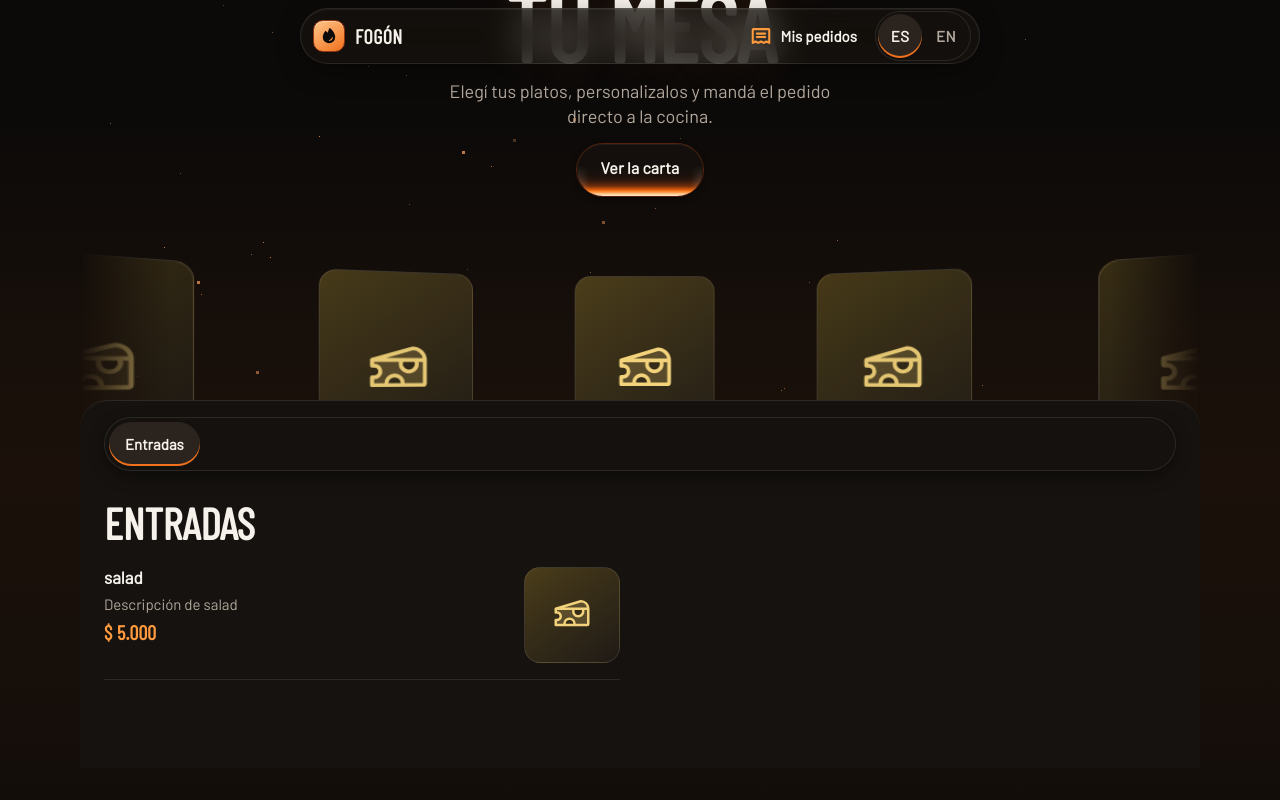
Test: CustomerApp: esqueleto de la app (RF1, RF2, RF3, RF4, RF32, RF41, RF42) › pedido en curso y envío (T8: RF21, RF23, RF25, RF26) › el registro del dispositivo recuerda el pedido enviado (es lo que sigue "Mis pedidos")
The width and height of the screenshot is (1280, 800).
Click the button "salad Descripción de salad $ 5.000": (123, 577) [104, 551, 620, 679]
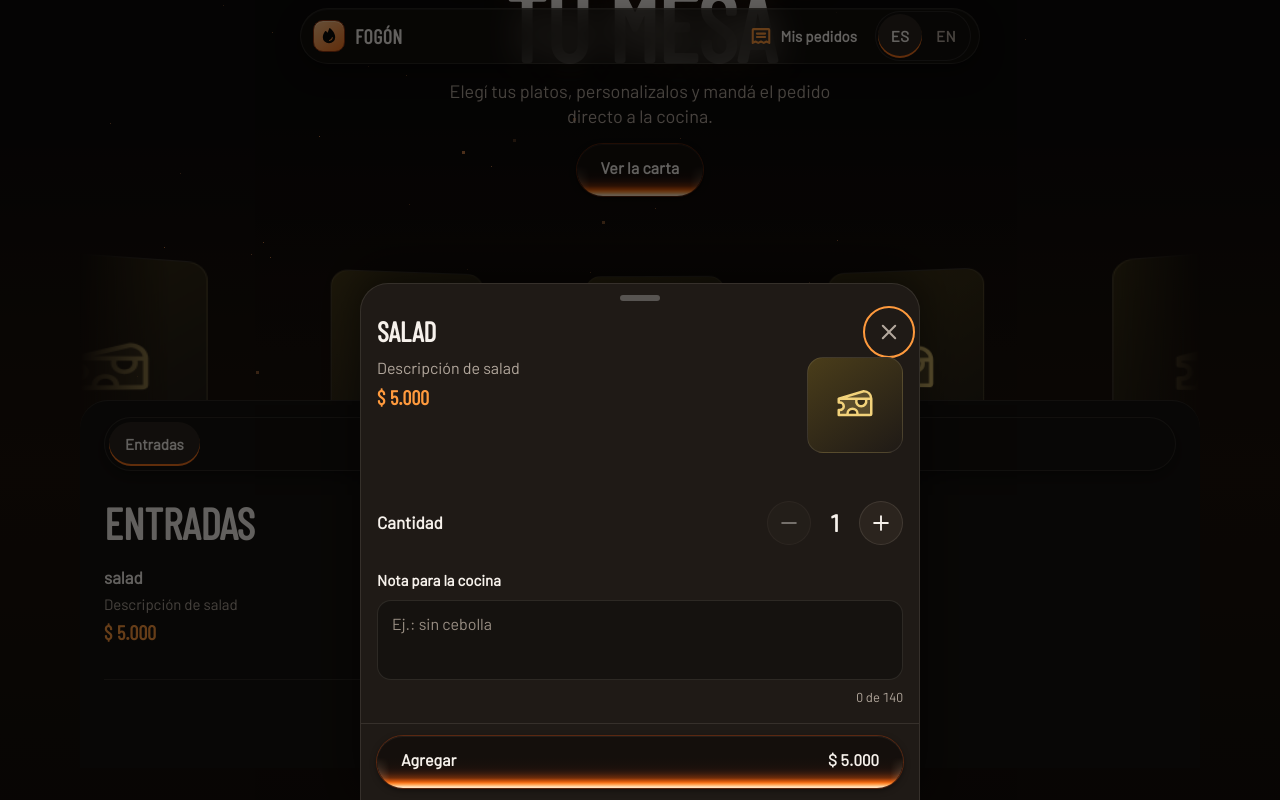
Click the button "Agregar $ 5.000": (429, 760) [377, 736, 903, 788]
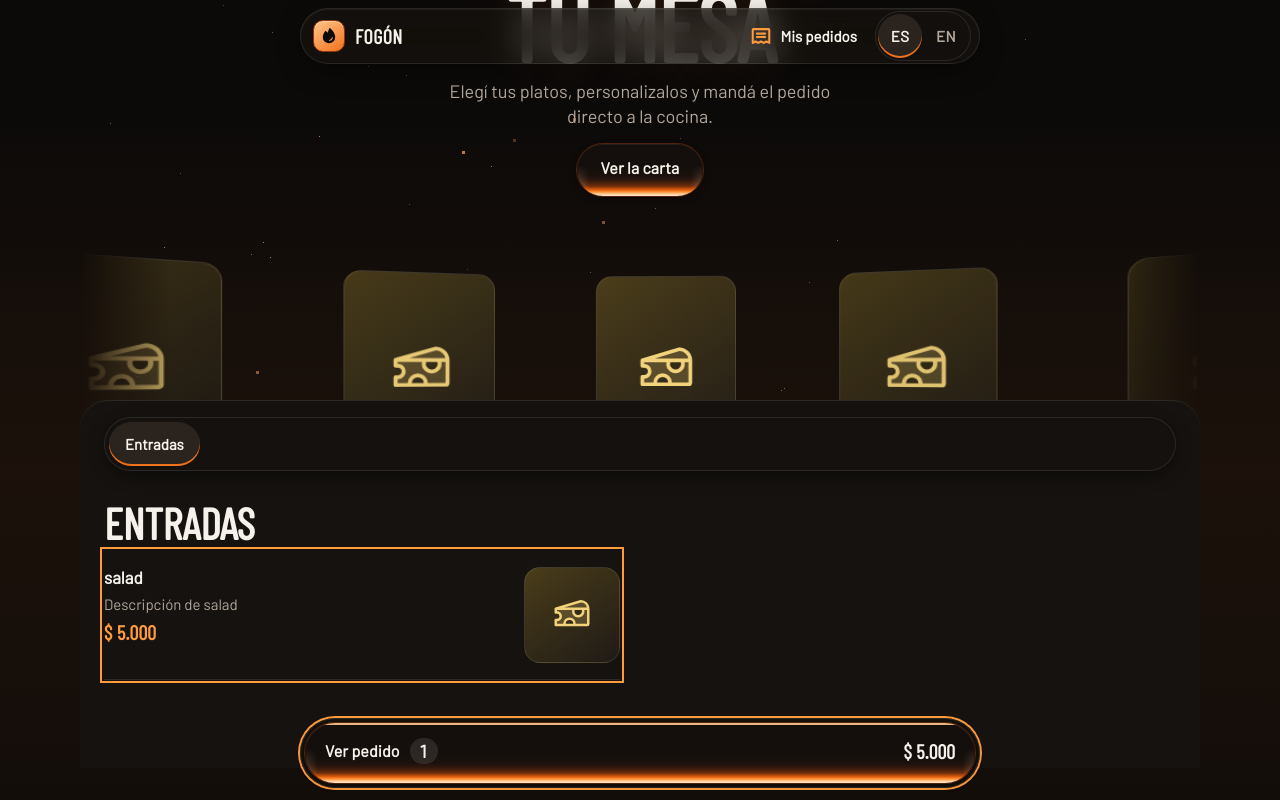
Check: the dialog is gone
Click the button "Ver pedido 1 $ 5.000": (362, 750) [305, 723, 975, 783]
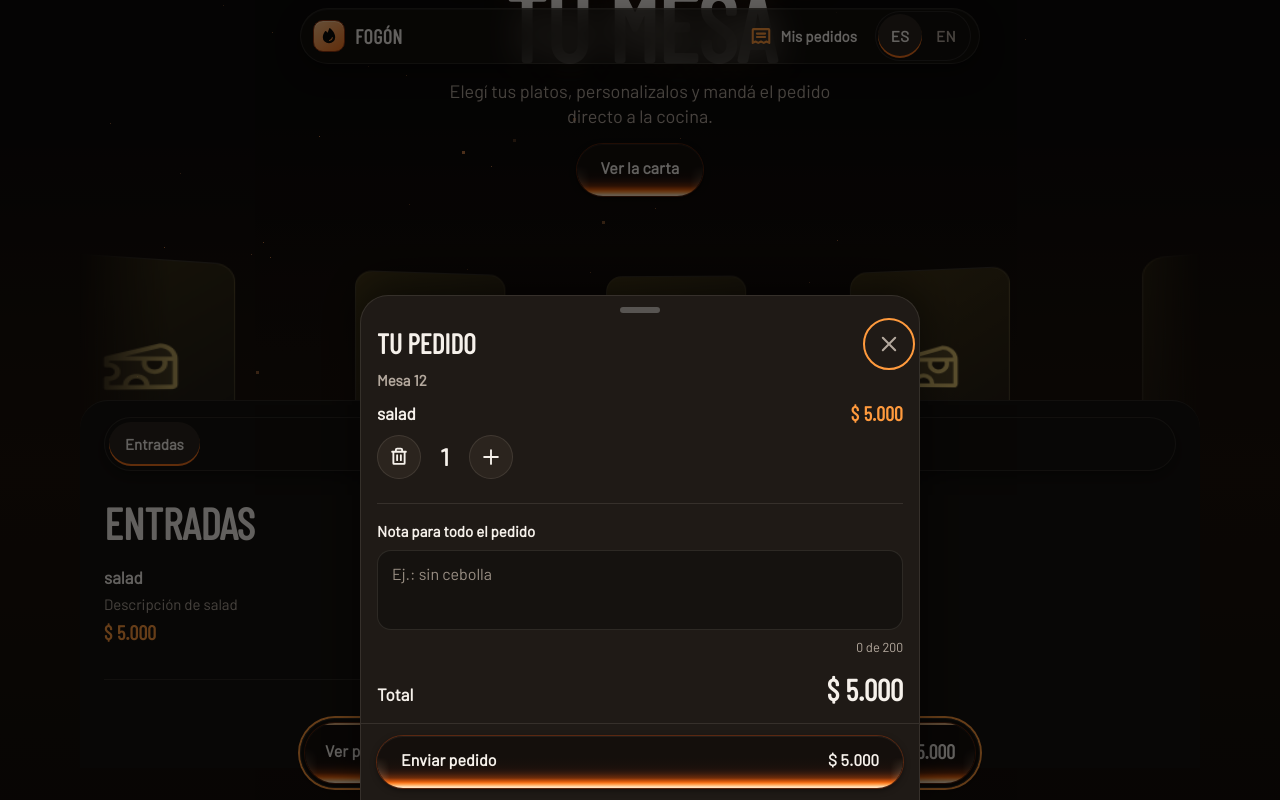
Click the button "Enviar pedido $ 5.000": (449, 760) [377, 736, 903, 788]
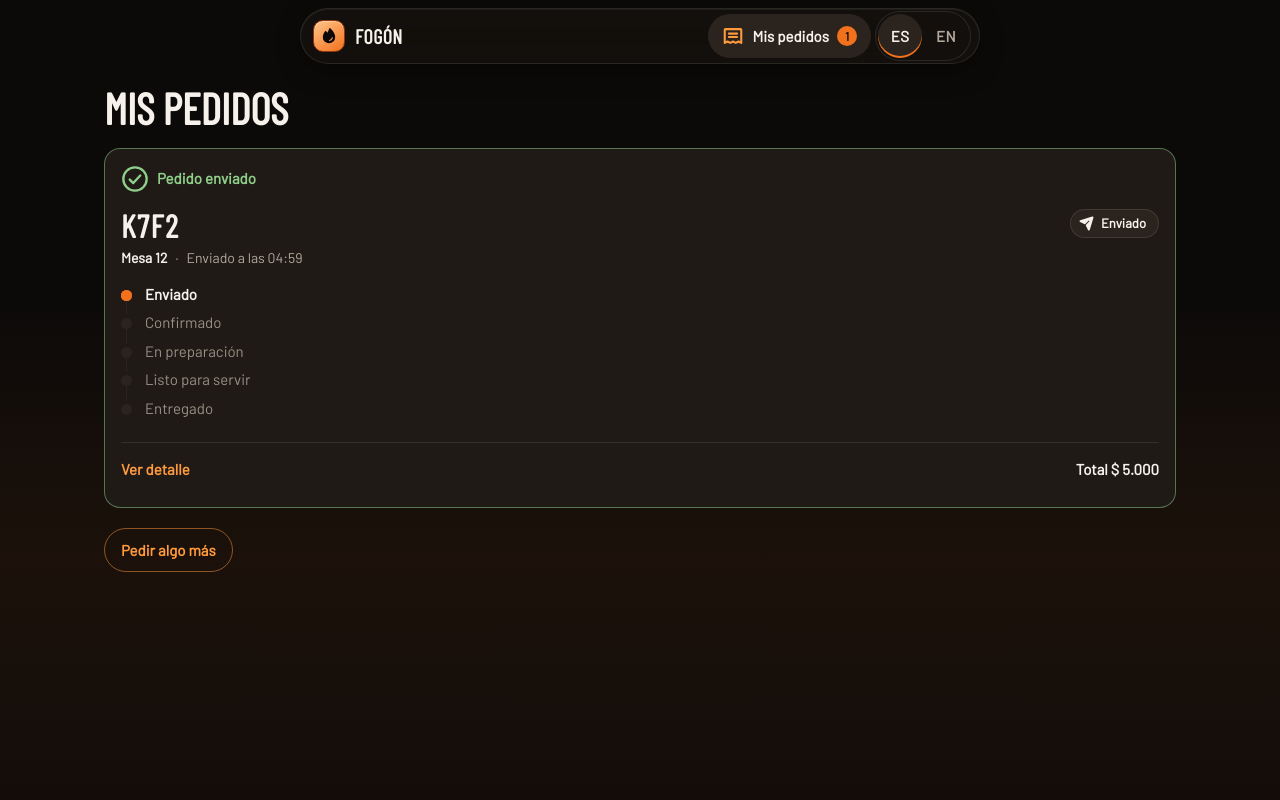
Check: the heading "Mis pedidos" is shown, box [104, 81, 288, 134]
